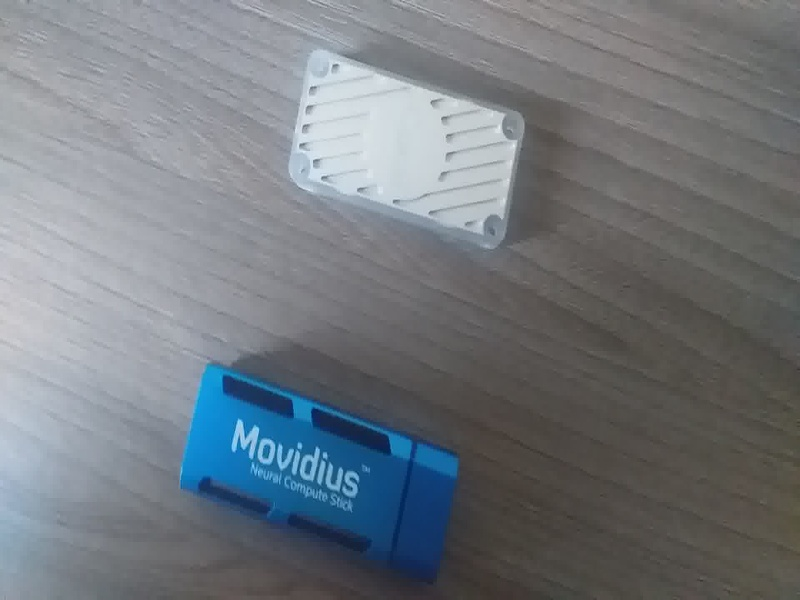coral: (284, 42, 539, 258)
movidius: (170, 361, 470, 585)
